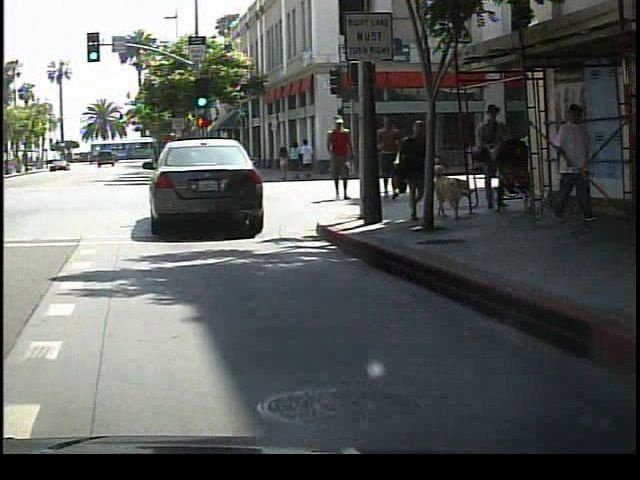person: (326, 114, 364, 205), (380, 107, 403, 193)
